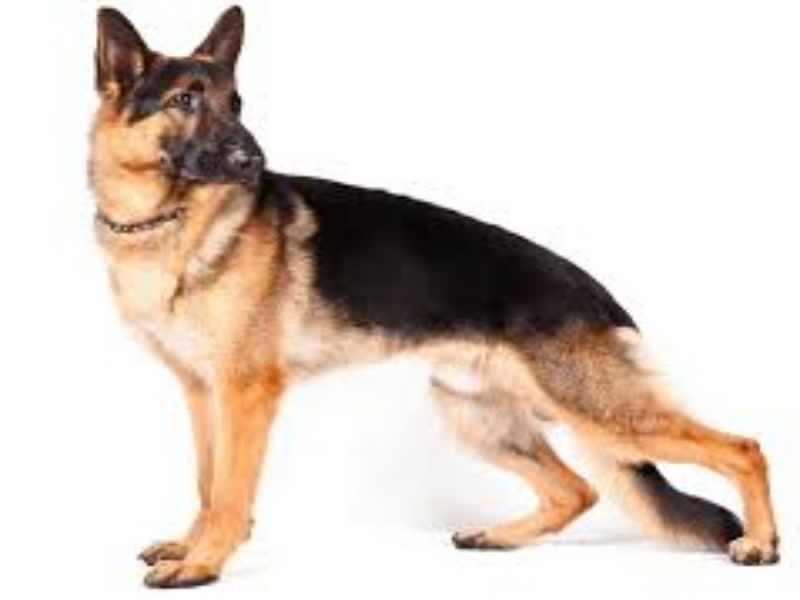dog: (78, 5, 788, 591)
